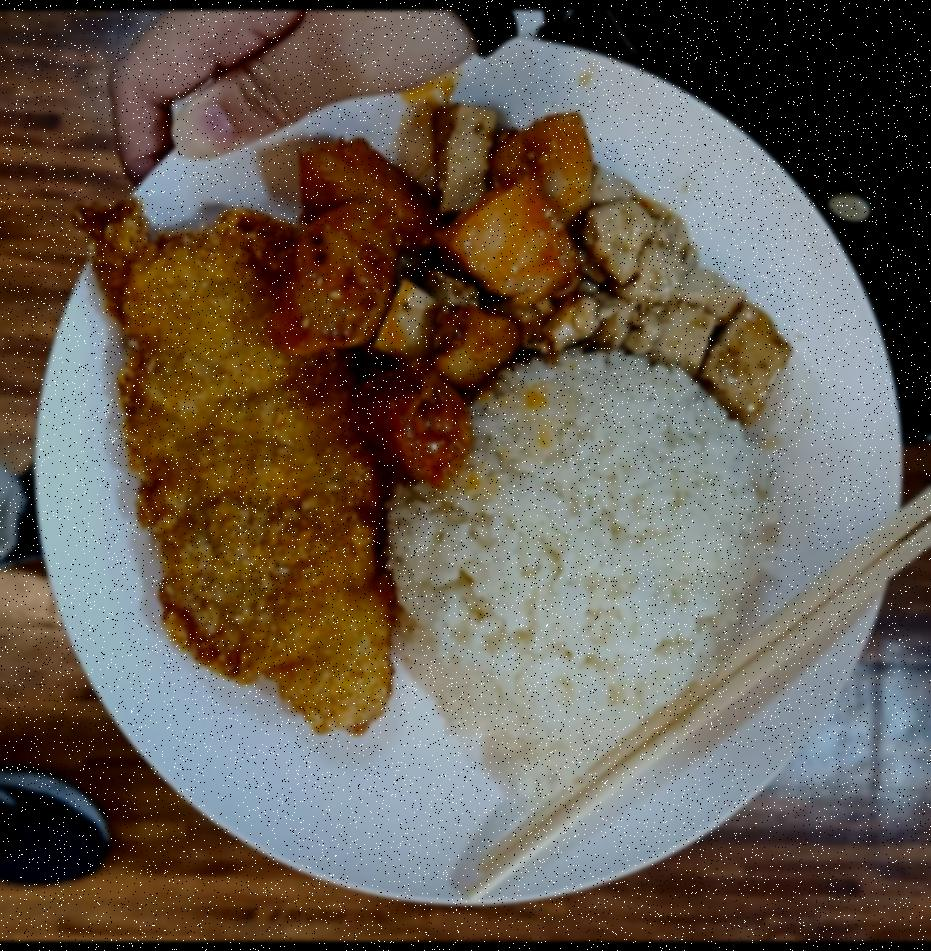chicken steak: (69, 175, 423, 742)
plate: (35, 29, 910, 932)
side dish: (302, 86, 598, 464), (558, 158, 788, 417)
white rice: (386, 346, 774, 794)
